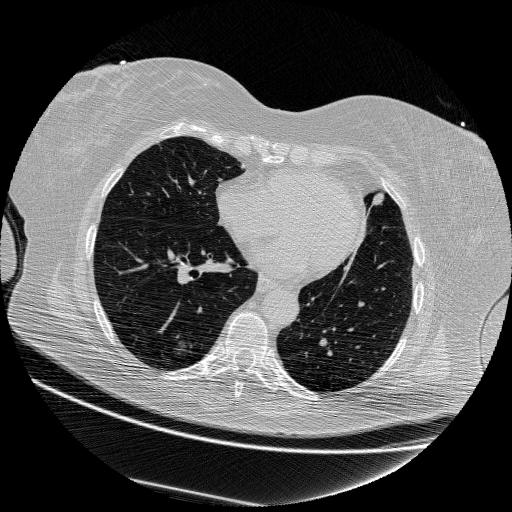nodule: (170, 338, 192, 360)
